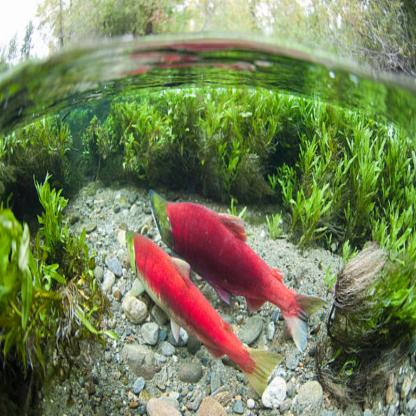sockeye: (125, 178, 320, 322), (119, 228, 270, 392)
sockeye-group: (118, 166, 315, 362)
